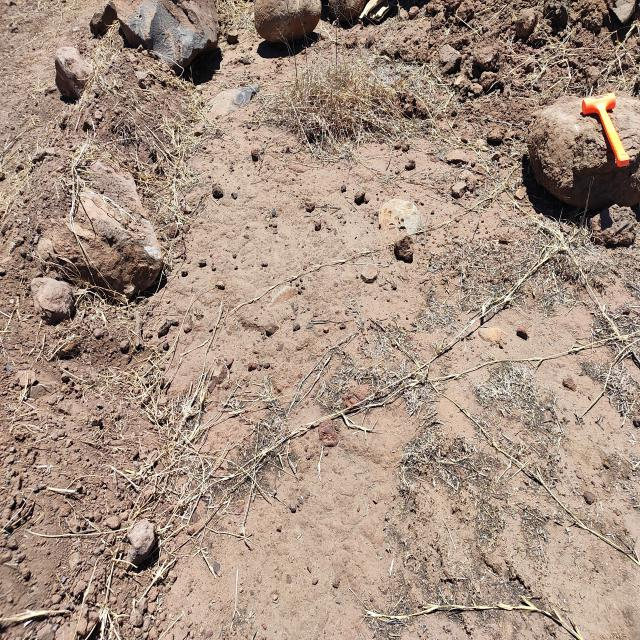Orange_hammer: (580, 91, 630, 168)
